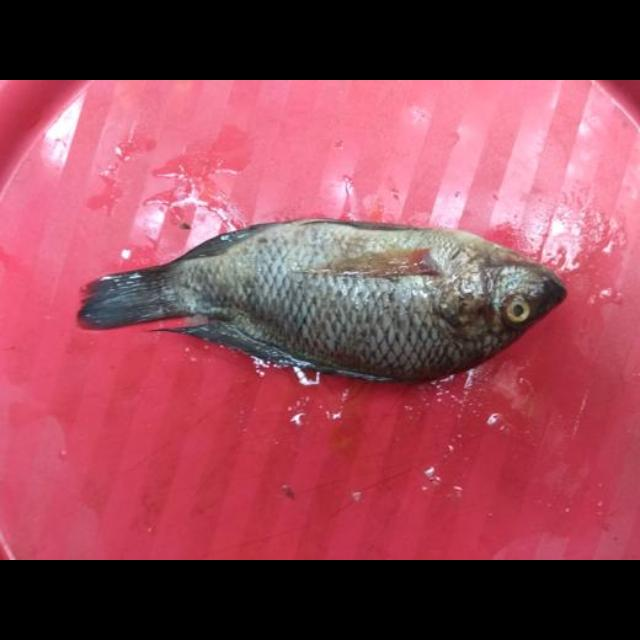Tilapia: (76, 220, 564, 386)
